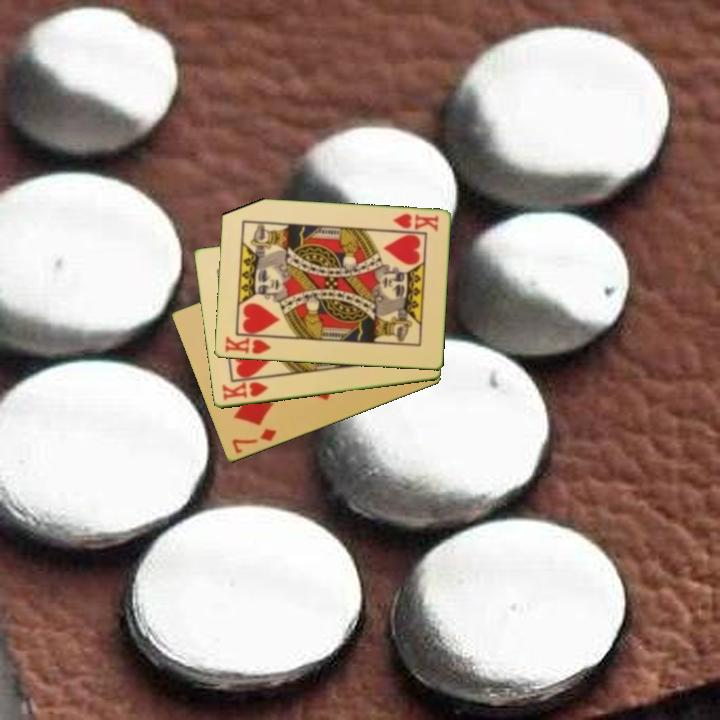7d: (228, 425, 279, 457)
Kh: (221, 332, 277, 357), (218, 379, 270, 404), (389, 210, 441, 235)
